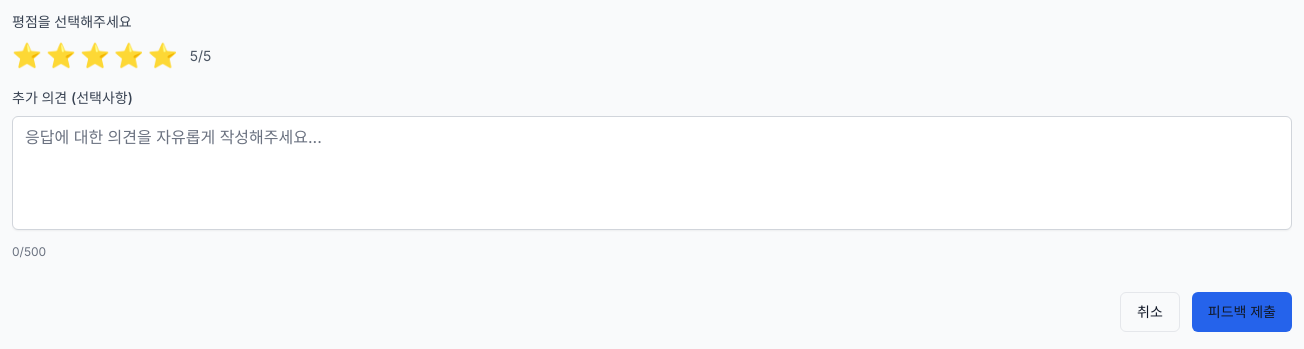
it: FeedbackForm › updates rating when star is clicked
Click the 3rd button "⭐".
click(95, 56)  # box [80,40,110,72]
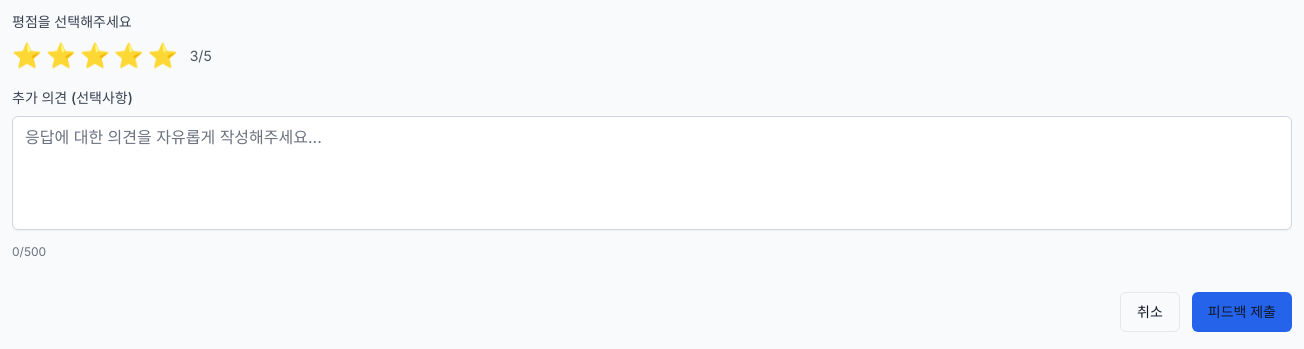
Now the text "3/5" is shown, box [190,46,212,66]
